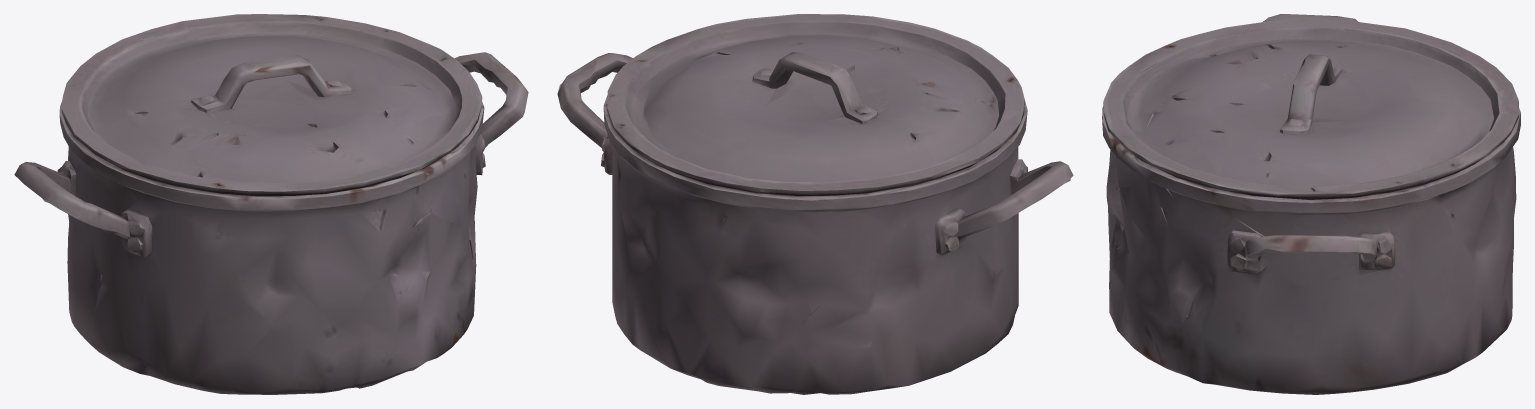
The model's file is cooking_pot_alyuminievaya_idle.glb.
The picture shows the model from 3 angles, left to right: view 1: azimuth 30°, elevation 25°; view 2: azimuth 150°, elevation 25°; view 3: azimuth 270°, elevation 25°; orthographic projection.
Visible parts, largest first — view 1: tripo_node_db910ba9-bee7-4006-9163-5aaf79bc8c43; view 2: tripo_node_db910ba9-bee7-4006-9163-5aaf79bc8c43; view 3: tripo_node_db910ba9-bee7-4006-9163-5aaf79bc8c43.
Part boxes in pixels (x1,y1,x2,y2): tripo_node_db910ba9-bee7-4006-9163-5aaf79bc8c43: [14, 14, 528, 394]; tripo_node_db910ba9-bee7-4006-9163-5aaf79bc8c43: [557, 14, 1073, 394]; tripo_node_db910ba9-bee7-4006-9163-5aaf79bc8c43: [1102, 14, 1520, 394].
Bounding box in the file's own units: 0.3993 × 0.1998 × 0.3049.
Materials: 1 (1 with a texture image).
